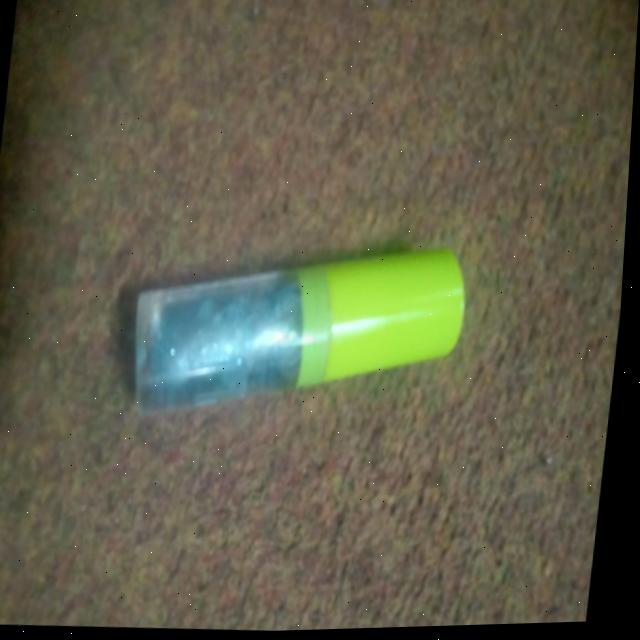lip gloss: (108, 201, 493, 443)
